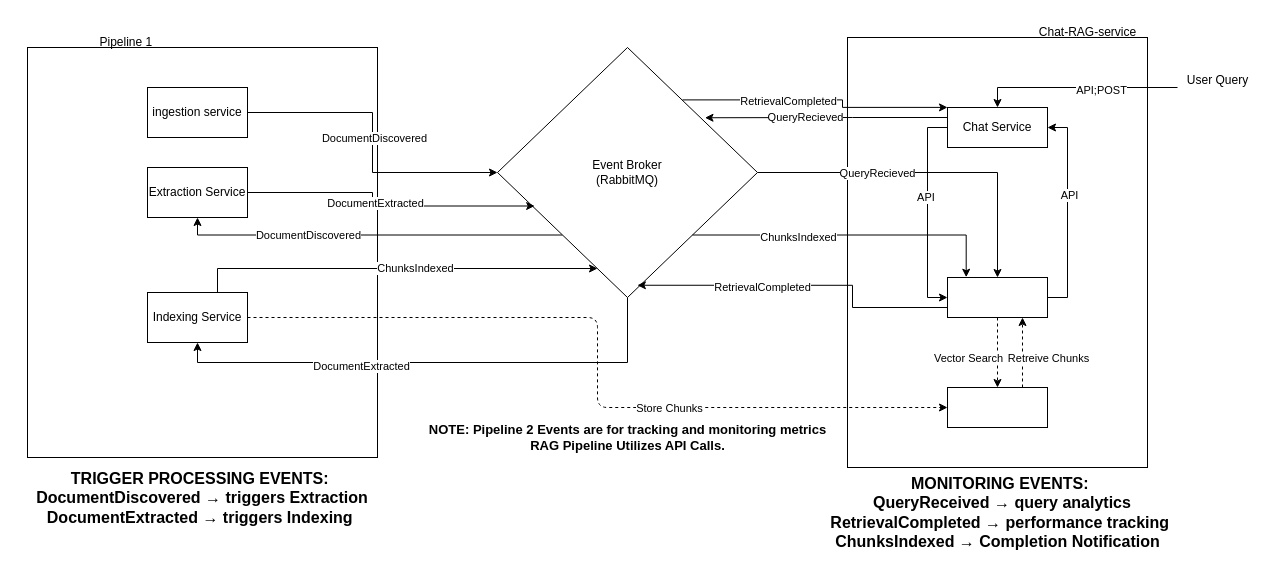
This 1274x574 diagram has some shape labels left out. The centre of each missing label's shape, as x and y in pixels:
"Qdrant" belongs at point 997,407.
"Retrieval Service" belongs at point 997,297.
